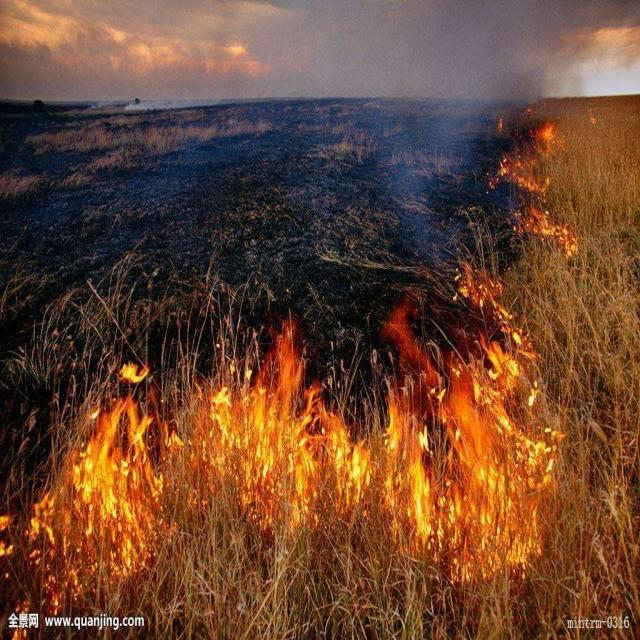Fire: (0, 119, 579, 640)
